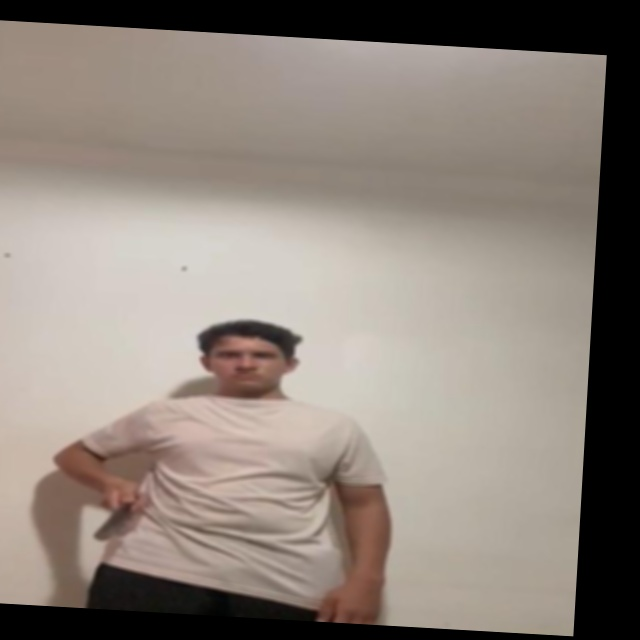Sharp-Object: (92, 510, 132, 545)
